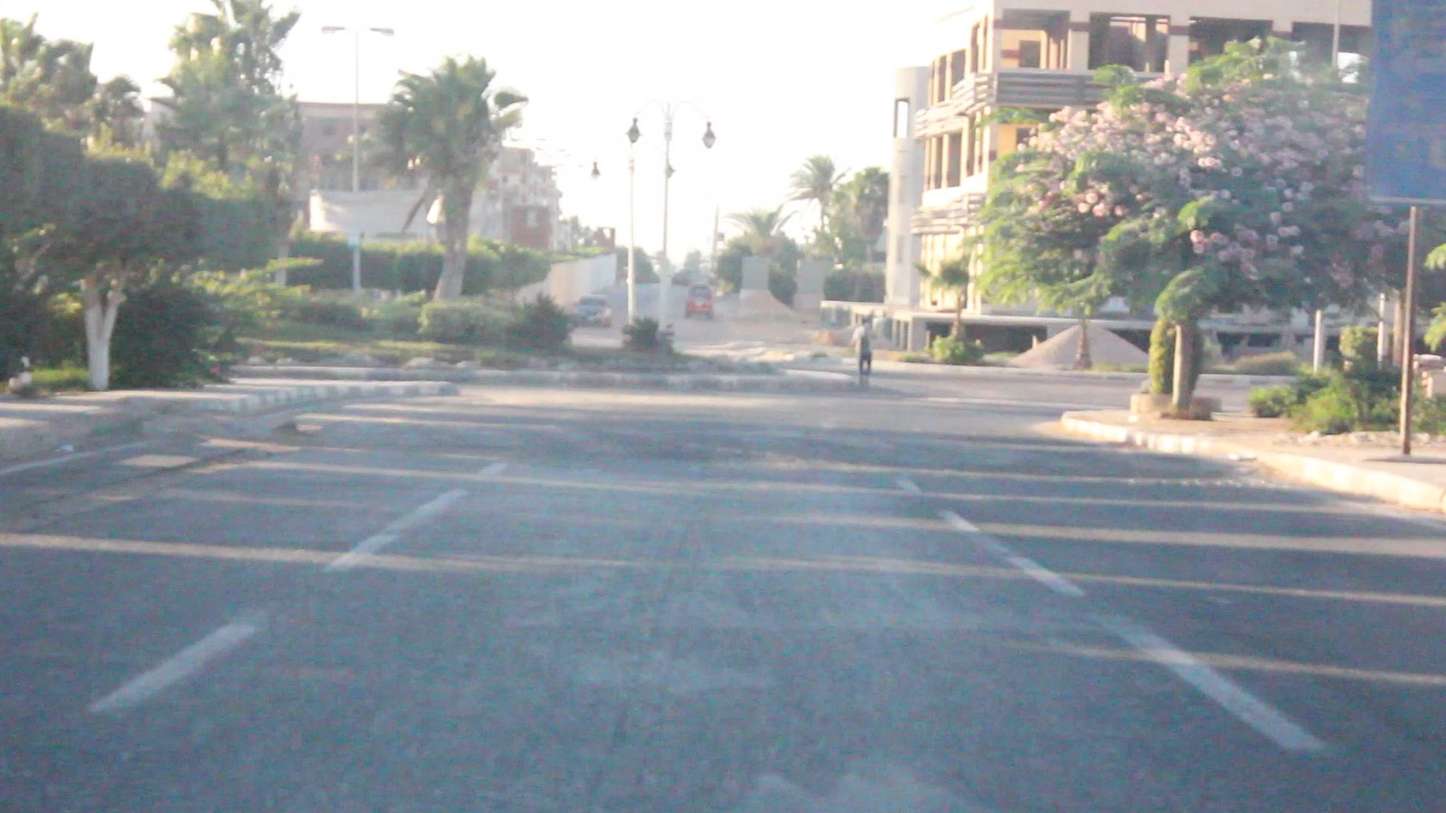Bump: (297, 414, 1197, 487)
